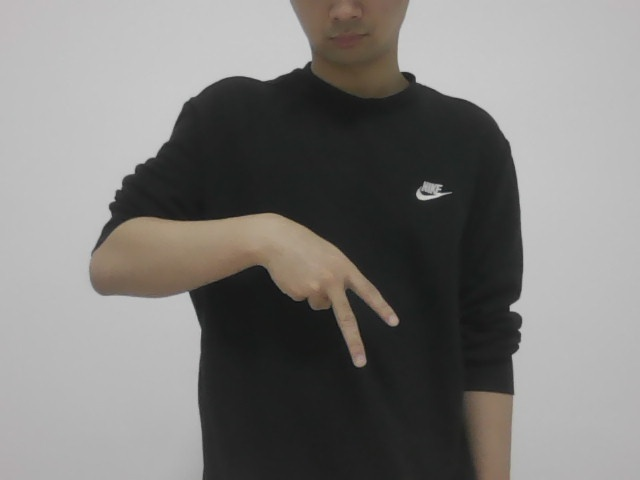walk: (243, 200, 406, 361)
